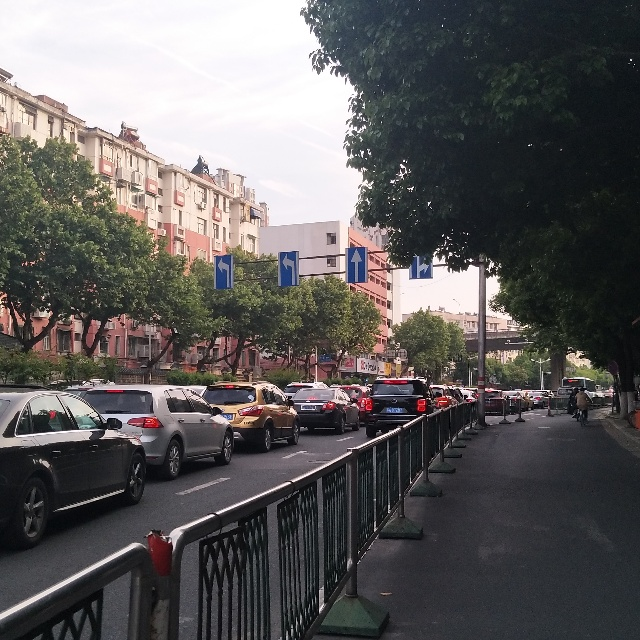left: (213, 257, 235, 290), (278, 251, 299, 285)
straight: (347, 248, 368, 284)
